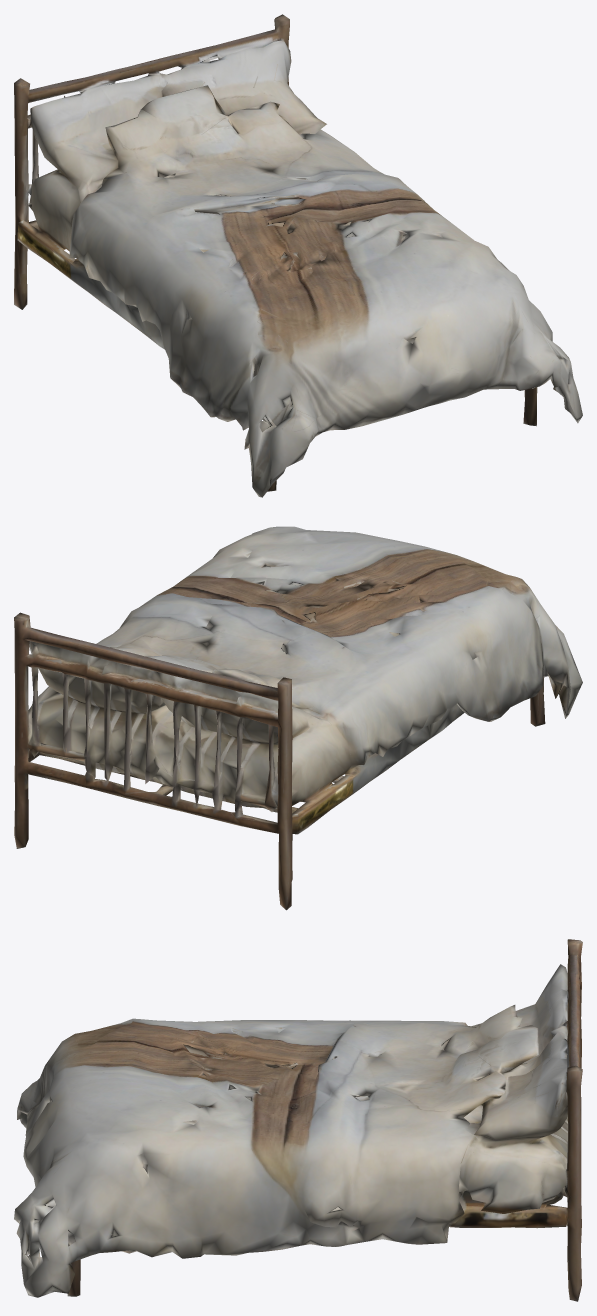
File: Meshy_AI_Rustic_Comfort_Bed_0131034312_texture.glb
The picture shows the model from 3 angles, top to bottom: view 1: azimuth 30°, elevation 25°; view 2: azimuth 150°, elevation 25°; view 3: azimuth 270°, elevation 25°; orthographic projection.
Bounding box in the file's own units: 1.35 × 0.9029 × 2.01.
1 material, 1 textured.
